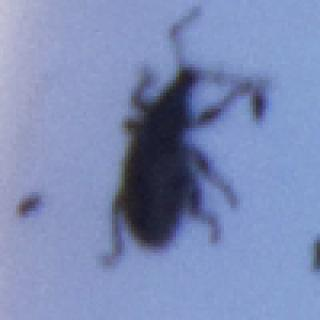bvw: (105, 5, 269, 272)
